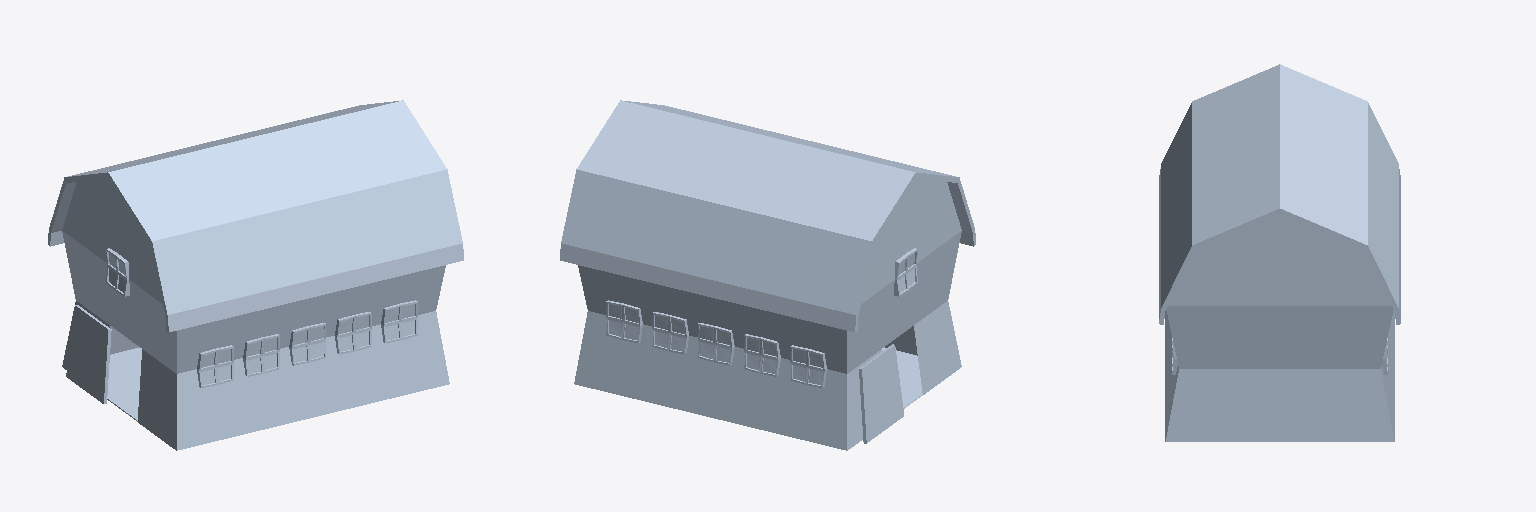
The model's file is celeiro.obj.
3 views of the same model, side by side, from view 1: azimuth 30°, elevation 25°; view 2: azimuth 150°, elevation 25°; view 3: azimuth 270°, elevation 25° (orthographic).
Visible parts, largest first — view 1: Celeiro; view 2: Celeiro; view 3: Celeiro.
Part boxes in pixels (left/top/right/bottom): Celeiro: left=48, top=100, right=463, bottom=450; Celeiro: left=560, top=100, right=975, bottom=450; Celeiro: left=1159, top=64, right=1400, bottom=441.
Size of the model in its own units: 1.82 by 1.41 by 1.3.